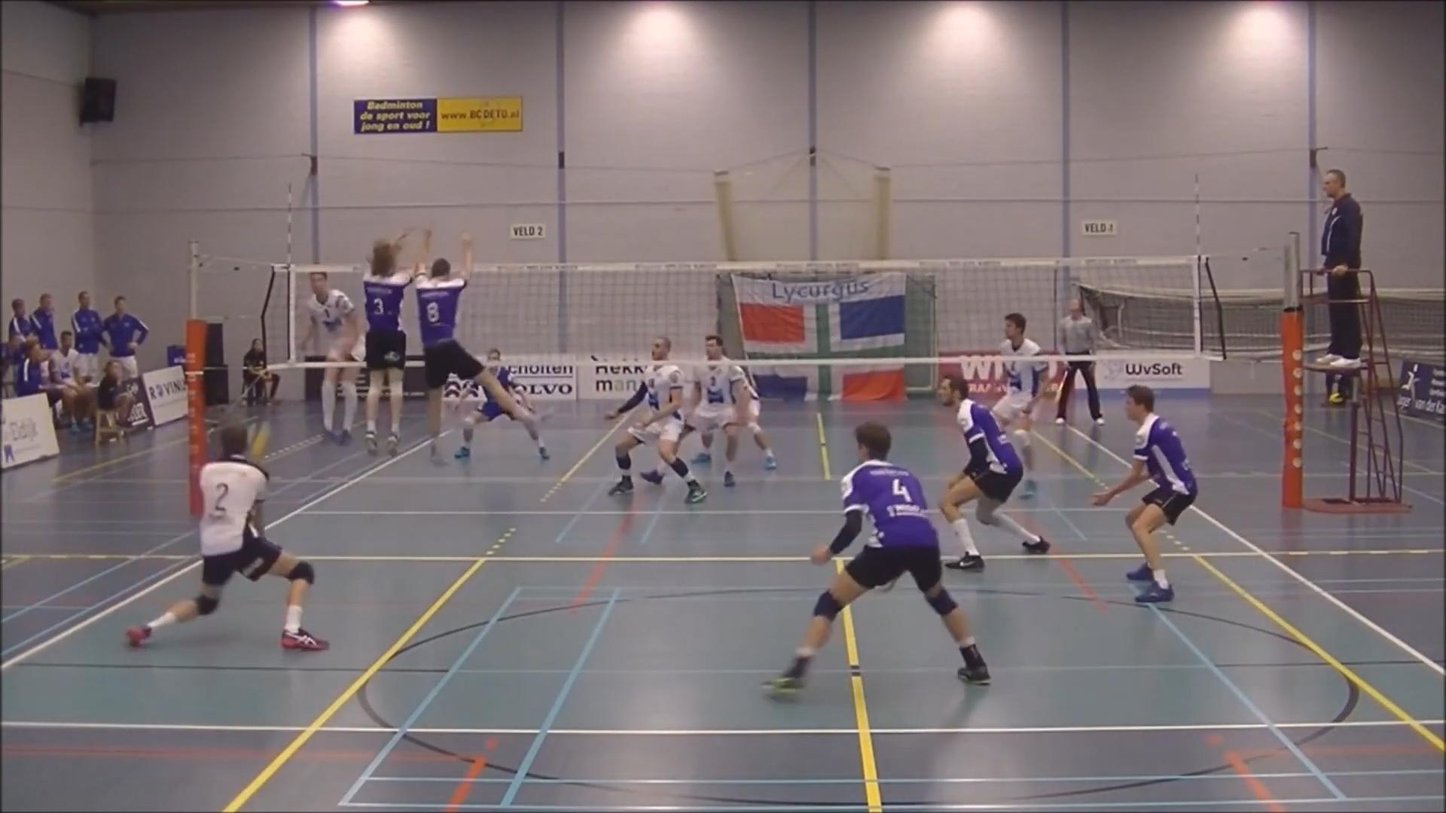Attack: (294, 255, 359, 445)
Block: (410, 226, 541, 461), (351, 222, 420, 453)
Dig: (127, 425, 334, 655)
Player: (767, 422, 990, 693), (1092, 385, 1197, 602), (937, 376, 1051, 571), (606, 336, 706, 503), (687, 334, 776, 486), (455, 349, 549, 460), (993, 312, 1046, 498)
ball: (241, 423, 270, 463)
